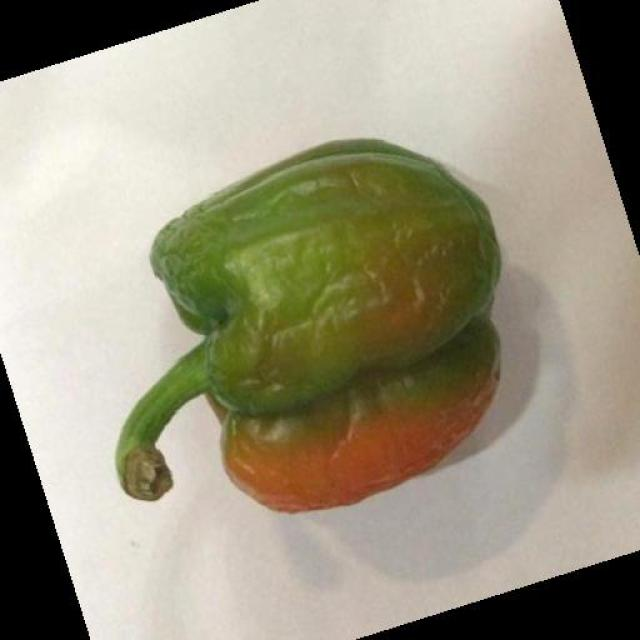Stale_Capsicum: (146, 157, 554, 528)
